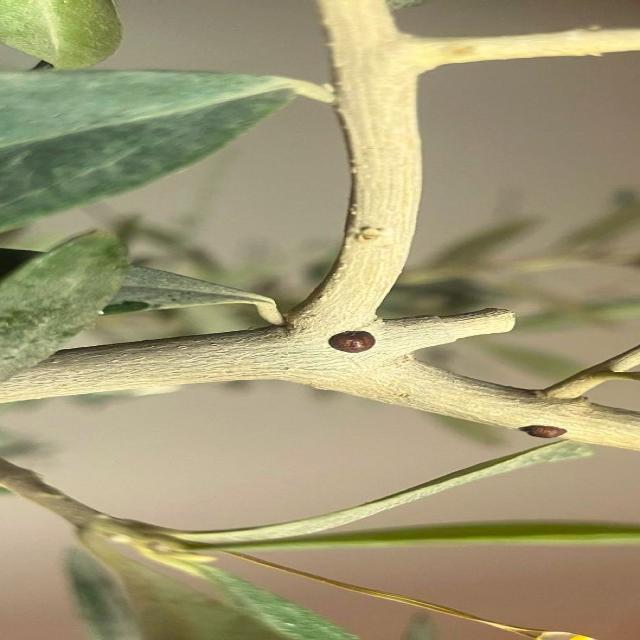BlackScale: (328, 331, 368, 353), (519, 425, 565, 438)
